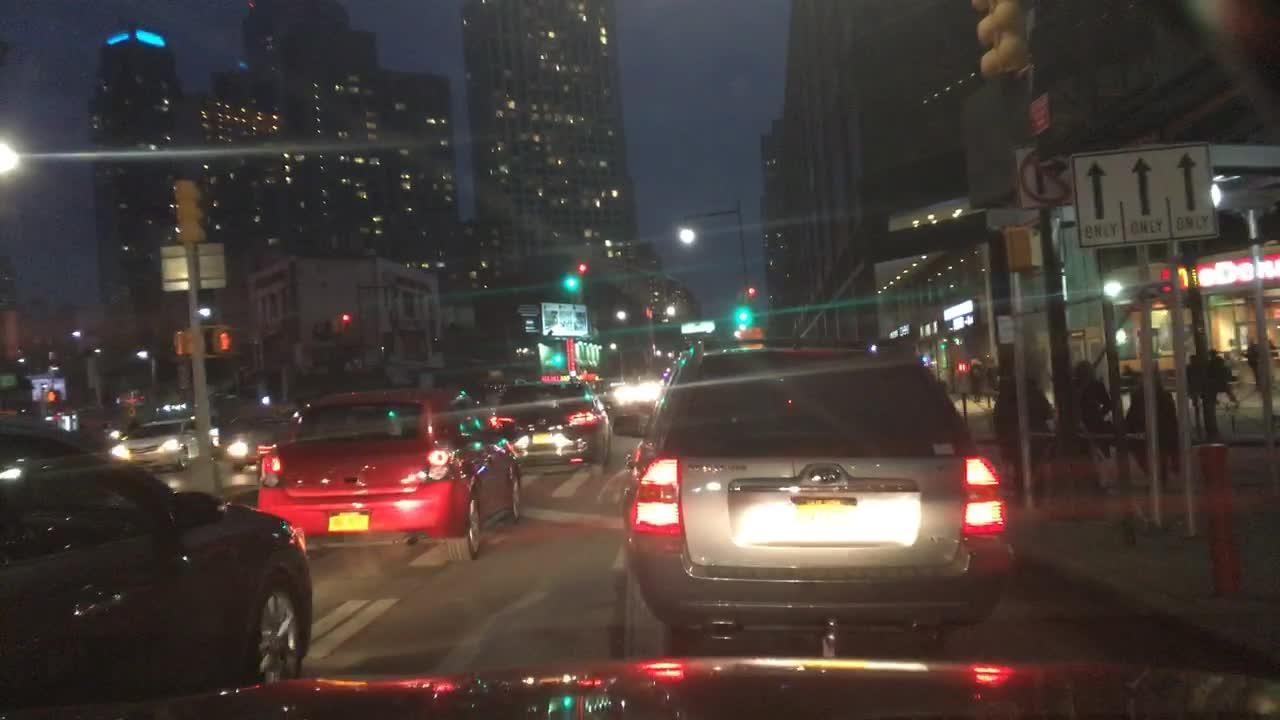kia: (804, 462, 843, 490)
